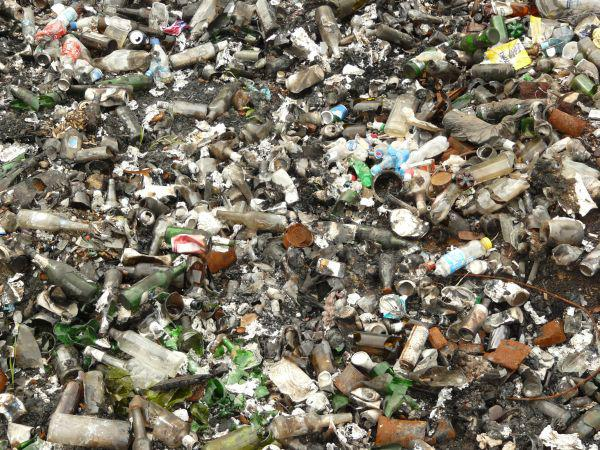Garbage: (110, 16, 459, 265), (61, 269, 462, 440), (142, 107, 309, 215), (34, 128, 162, 262), (345, 136, 556, 208), (49, 0, 113, 97), (401, 252, 493, 288)
